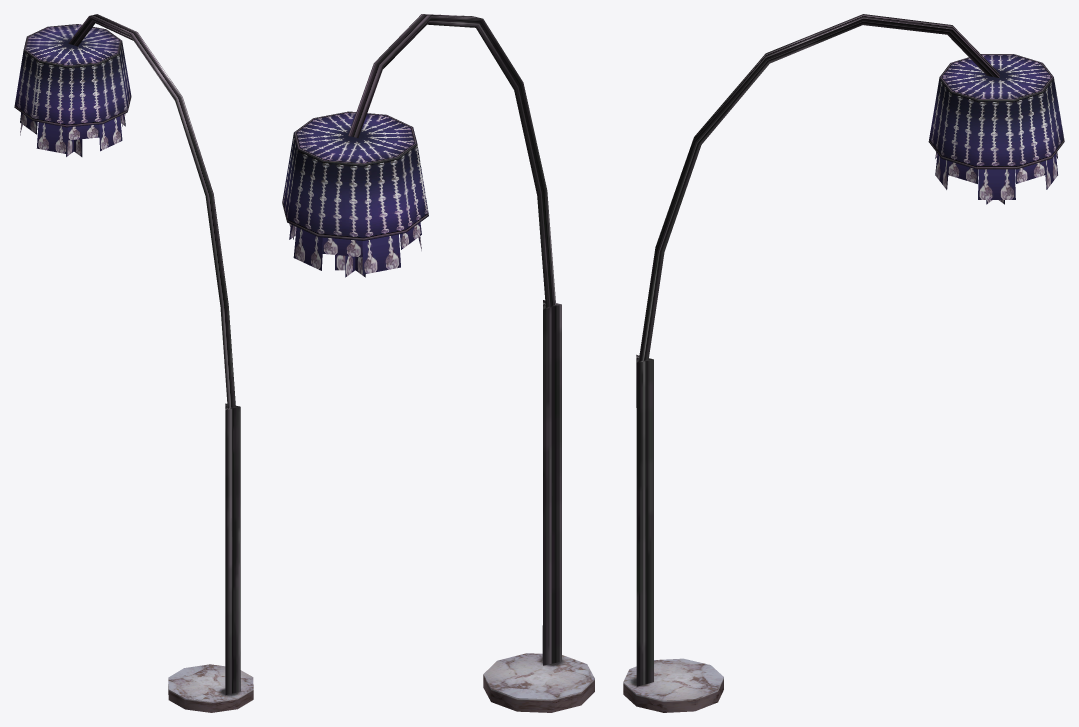
Rendered from furni_0200303.FBX.
The picture shows the model from 3 angles, left to right: view 1: azimuth 30°, elevation 25°; view 2: azimuth 150°, elevation 25°; view 3: azimuth 270°, elevation 25°; orthographic projection. The views are drawn at different scales.
Parts seen in each view (by area): view 1: furni_0200303; view 2: furni_0200303; view 3: furni_0200303.
Boxes of the visible parts, left/top/right/bottom form: furni_0200303: left=14, top=14, right=253, bottom=712; furni_0200303: left=282, top=14, right=594, bottom=712; furni_0200303: left=623, top=14, right=1064, bottom=712.
Size of the model in its own units: 43.62 by 252 by 149.
